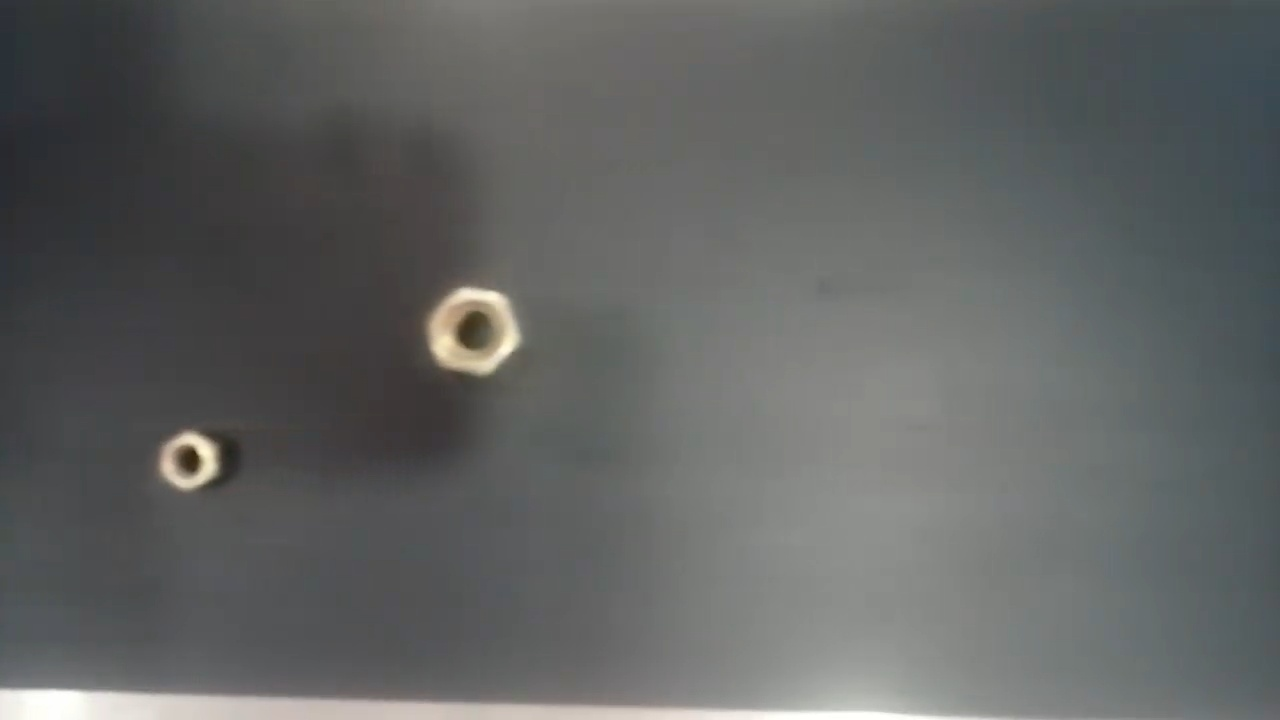Bolt: (426, 285, 523, 379), (158, 426, 226, 494)
